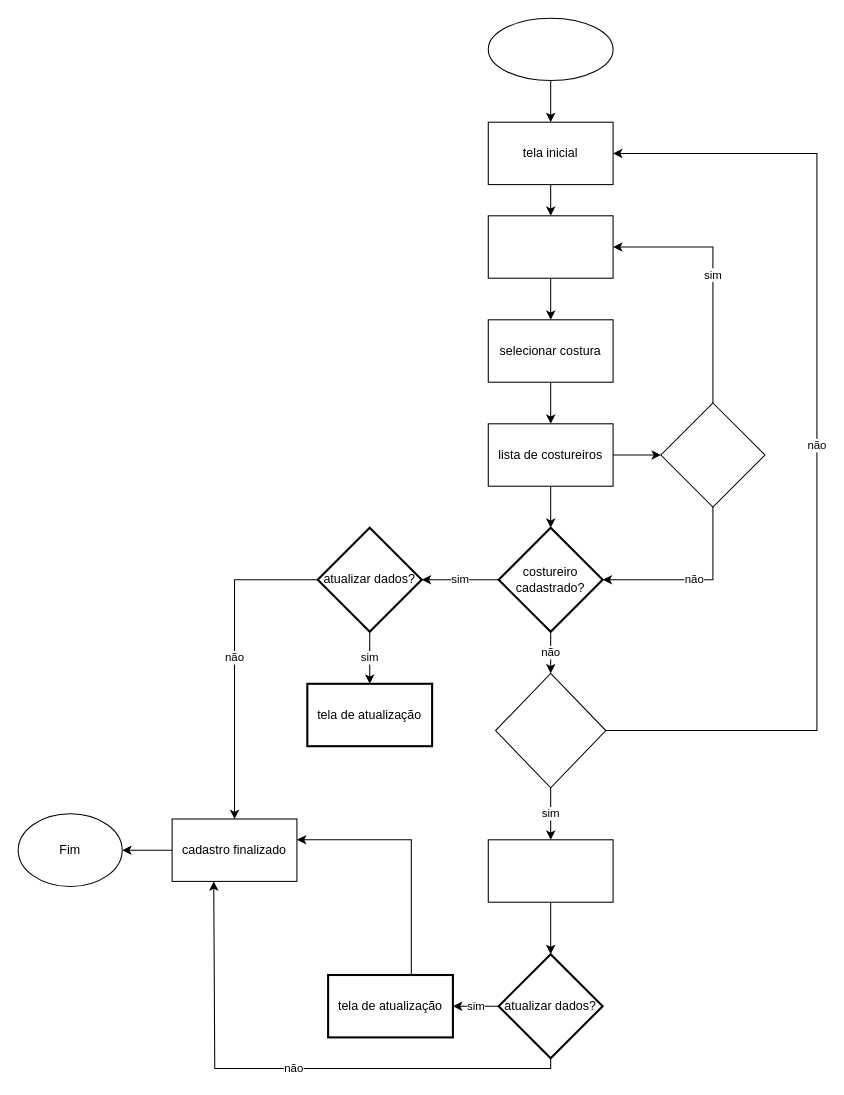
The diagram is 844 pixels wide and 1095 high, and some of its shapes have lost their labels. Each missing label, with the box of its shape:
cadastrar costureiro?: (495, 672, 606, 788)
inicio: (487, 17, 613, 81)
selecionar setores: (487, 215, 613, 278)
tela de cadastro: (487, 839, 613, 902)
voltar?: (660, 402, 765, 507)
